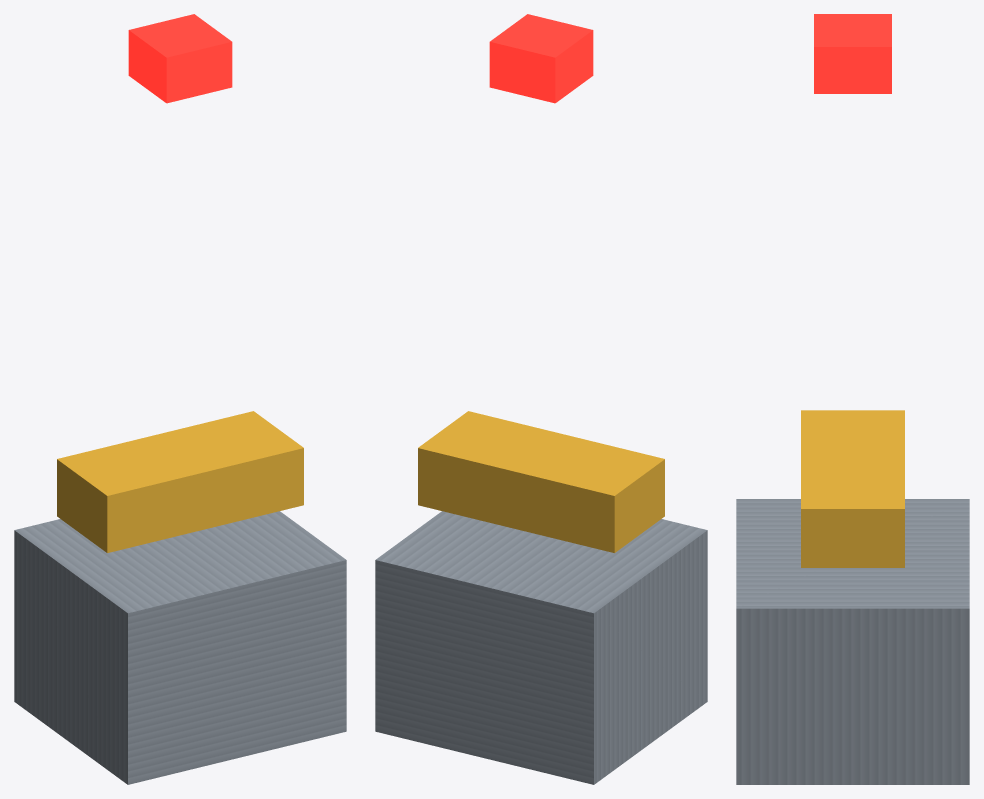
Rendered from Actuator.gltf.
3 views of the same model, side by side, from view 1: azimuth 30°, elevation 25°; view 2: azimuth 150°, elevation 25°; view 3: azimuth 270°, elevation 25° (orthographic). The views are drawn at different scales.
Parts seen in each view (by area): view 1: Body, Motion, Fault; view 2: Body, Motion, Fault; view 3: Body, Motion, Fault.
Part boxes in pixels (<box>): Body: <box>14,511,346,784</box>; Motion: <box>57,411,303,552</box>; Fault: <box>128,14,232,103</box>; Body: <box>375,511,707,784</box>; Motion: <box>418,411,664,552</box>; Fault: <box>489,14,593,103</box>; Body: <box>736,499,969,784</box>; Motion: <box>801,410,904,567</box>; Fault: <box>814,14,891,93</box>.
Bounding box in the file's own units: 0.2 × 0.595 × 0.18.
Materials: 3 (1 with a texture image).
